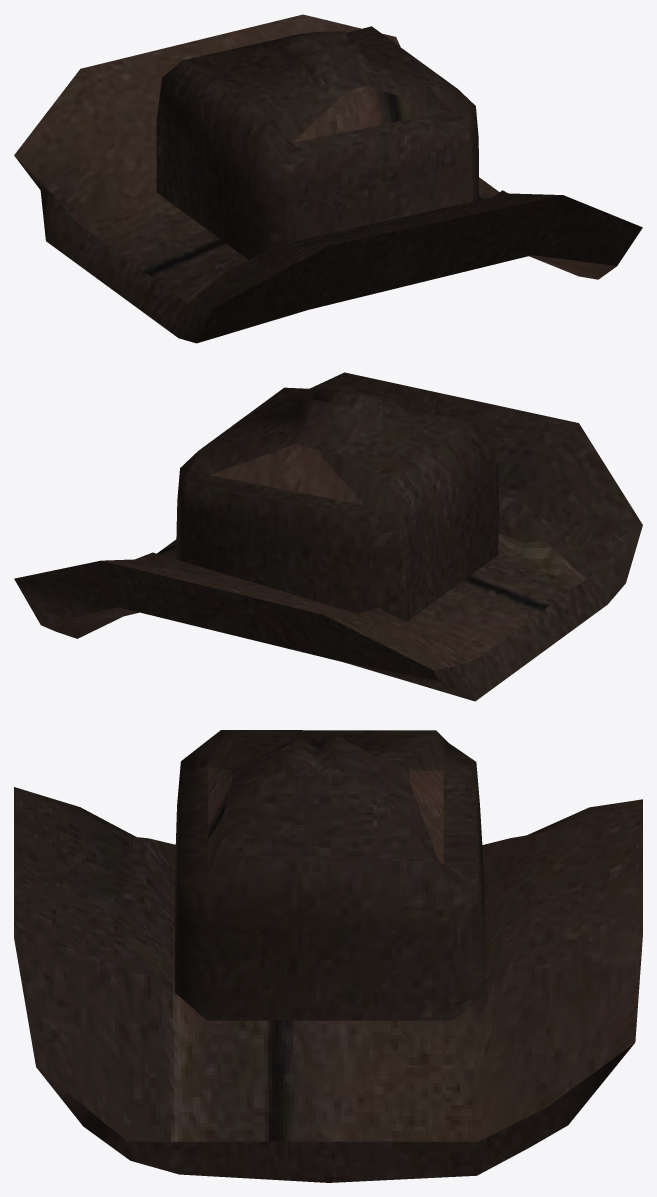
Rendered from hat.glb.
3 renders of one model, top to bottom at view 1: azimuth 30°, elevation 25°; view 2: azimuth 150°, elevation 25°; view 3: azimuth 270°, elevation 25°, orthographic. The views are drawn at different scales.
Visible parts, largest first — view 1: Cube; view 2: Cube; view 3: Cube.
Boxes of the visible parts, bbox=[...] form: Cube: bbox=[14, 14, 642, 343]; Cube: bbox=[14, 372, 642, 701]; Cube: bbox=[14, 730, 642, 1182].
Size of the model in its own units: 4.23 by 2.42 by 4.46.
Materials: 1 (1 with a texture image).
